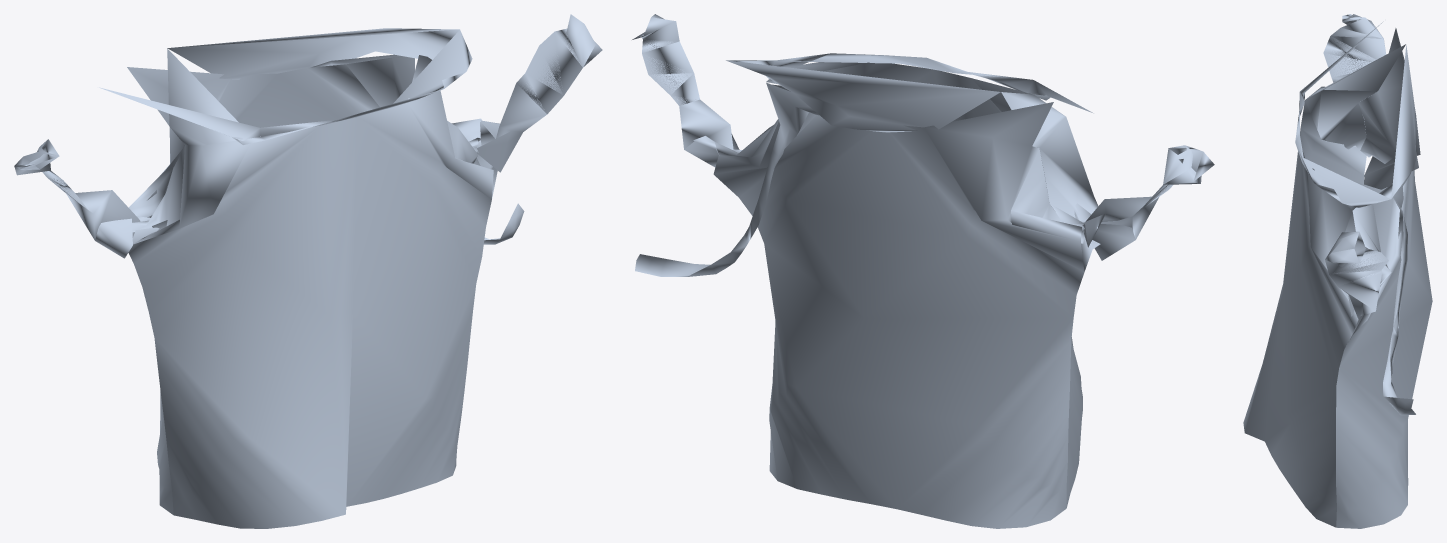
The model's file is frame_040.glb.
3 renders of one model, left to right at view 1: azimuth 30°, elevation 25°; view 2: azimuth 150°, elevation 25°; view 3: azimuth 270°, elevation 25°, orthographic. The views are drawn at different scales.
Parts seen in each view (by area): view 1: panel.front, panel.back, panel.neck_band, panel.sleeve.right, panel.sleeve.left; view 2: panel.back, panel.neck_band, panel.front, panel.sleeve.right, panel.sleeve.left; view 3: panel.front, panel.back, panel.neck_band, panel.sleeve.right, panel.sleeve.left.
Boxes of the visible parts, x1,y1,x2,y2 form: panel.front: (128, 48, 493, 528); panel.back: (127, 56, 497, 514); panel.neck_band: (99, 28, 524, 244); panel.sleeve.right: (477, 14, 602, 172); panel.sleeve.left: (14, 139, 140, 258); panel.back: (713, 84, 1084, 528); panel.neck_band: (635, 53, 1093, 276); panel.front: (766, 62, 1100, 507); panel.sleeve.right: (632, 14, 739, 167); panel.sleeve.left: (1082, 145, 1214, 260); panel.front: (1243, 44, 1405, 527); panel.back: (1336, 28, 1432, 528); panel.neck_band: (1295, 21, 1418, 415); panel.sleeve.right: (1325, 231, 1388, 318); panel.sleeve.left: (1323, 14, 1386, 145).
Size of the model in its own units: 1.04 by 0.777 by 0.3498.
